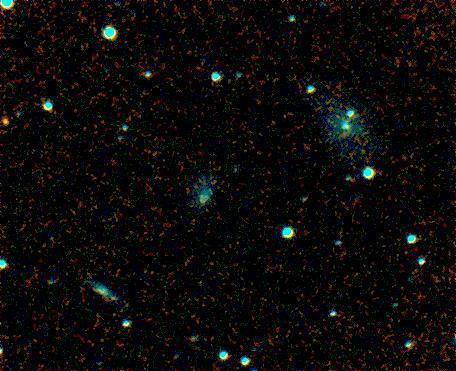star: (0, 107, 23, 137)
